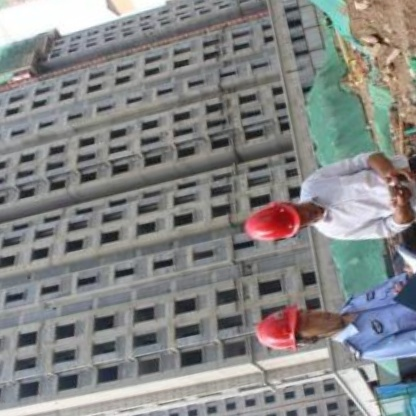red: (245, 297, 317, 369), (235, 194, 310, 260)
